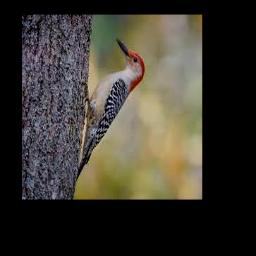Woodpecker: (75, 38, 145, 181)
